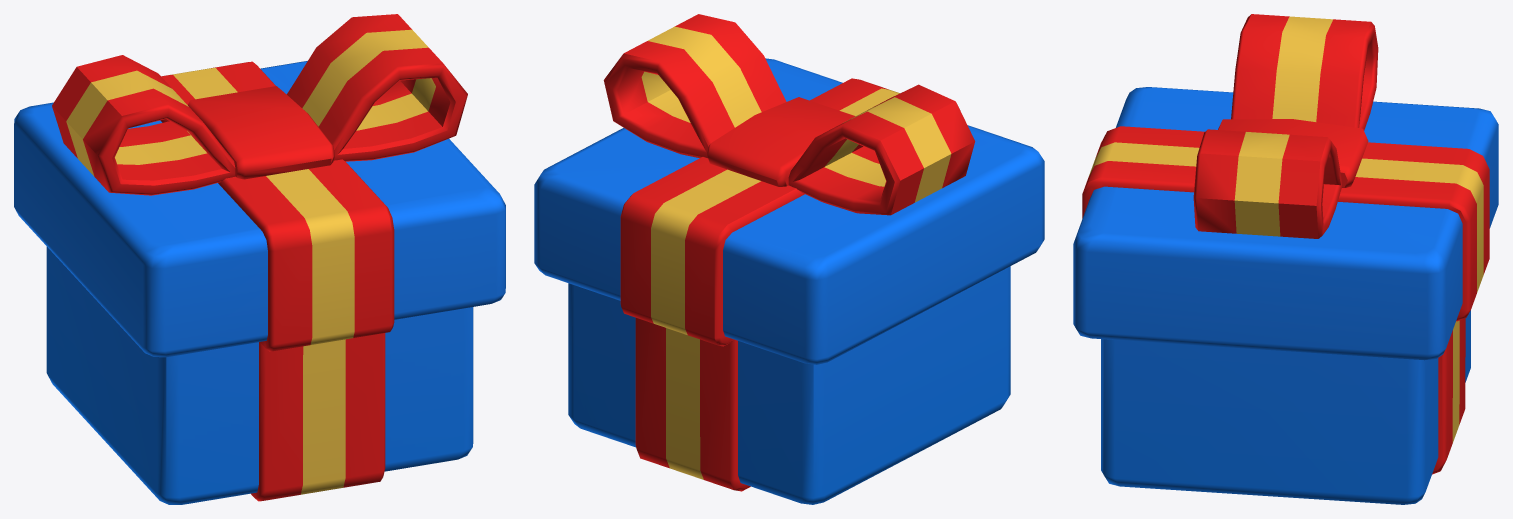
3 views of the same model, side by side, from view 1: azimuth 30°, elevation 25°; view 2: azimuth 150°, elevation 25°; view 3: azimuth 270°, elevation 25° (orthographic). The views are drawn at different scales.
Visible parts, largest first — view 1: model_0.066; view 2: model_0.066; view 3: model_0.066.
Part boxes in pixels (<box>): model_0.066: <box>14,14,505,504</box>; model_0.066: <box>534,14,1044,504</box>; model_0.066: <box>1073,14,1498,504</box>.
Bounding box in the file's own units: 4.17 × 3.87 × 4.17.
